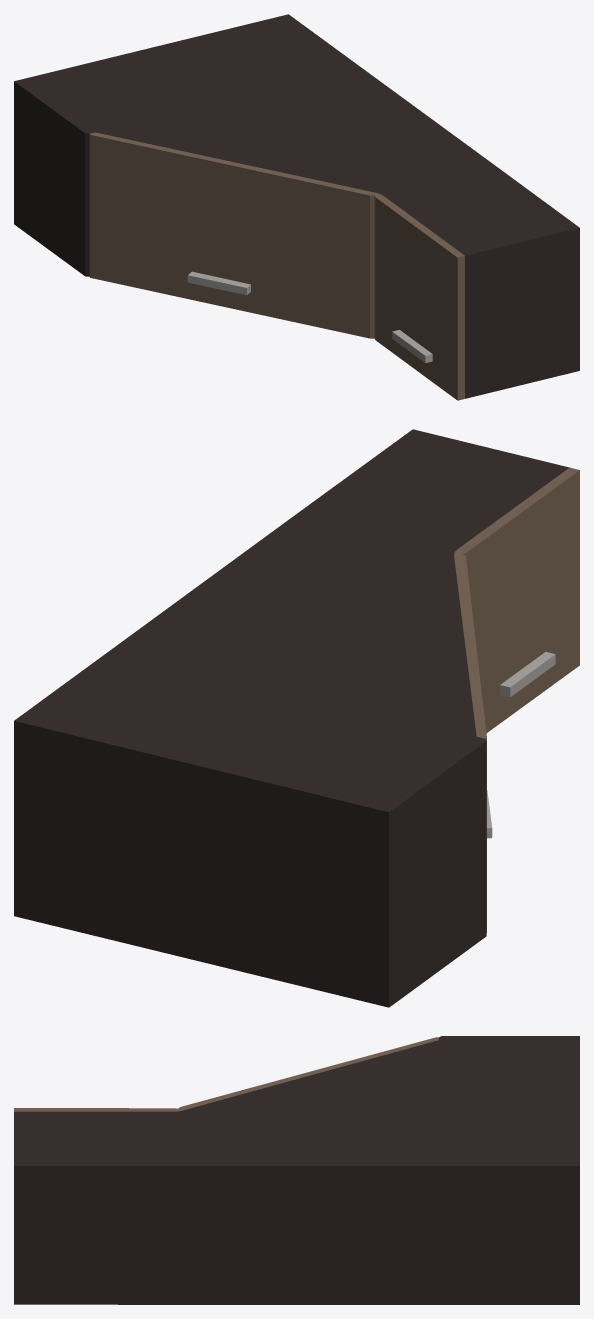
File: Kitchen_Cabinet7.fbx
3 renders of one model, top to bottom at view 1: azimuth 30°, elevation 25°; view 2: azimuth 150°, elevation 25°; view 3: azimuth 270°, elevation 25°, orthographic. The views are drawn at different scales.
Visible parts, largest first — view 1: Kitchen_Cabinet7; view 2: Kitchen_Cabinet7; view 3: Kitchen_Cabinet7.
Boxes of the visible parts, x1=… form: Kitchen_Cabinet7: x1=14, y1=14, x2=579, y2=400; Kitchen_Cabinet7: x1=14, y1=429, x2=579, y2=1007; Kitchen_Cabinet7: x1=14, y1=1036, x2=579, y2=1304.
Size of the model in its own units: 120 by 221 by 59.82.
